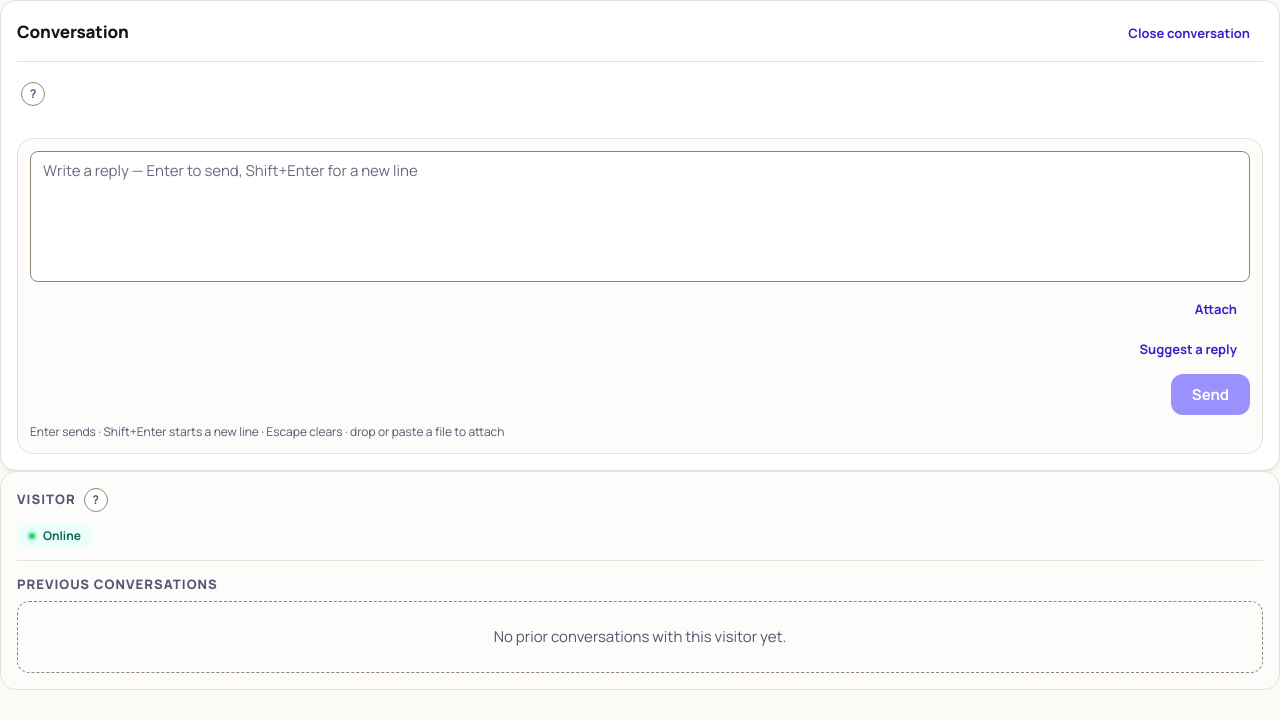
Test: closing the conversation › keeps the composer when the close was refused
The width and height of the screenshot is (1280, 720).
Click the button "Close conversation" at {"x": 1189, "y": 33}, box [1115,17,1263,49]
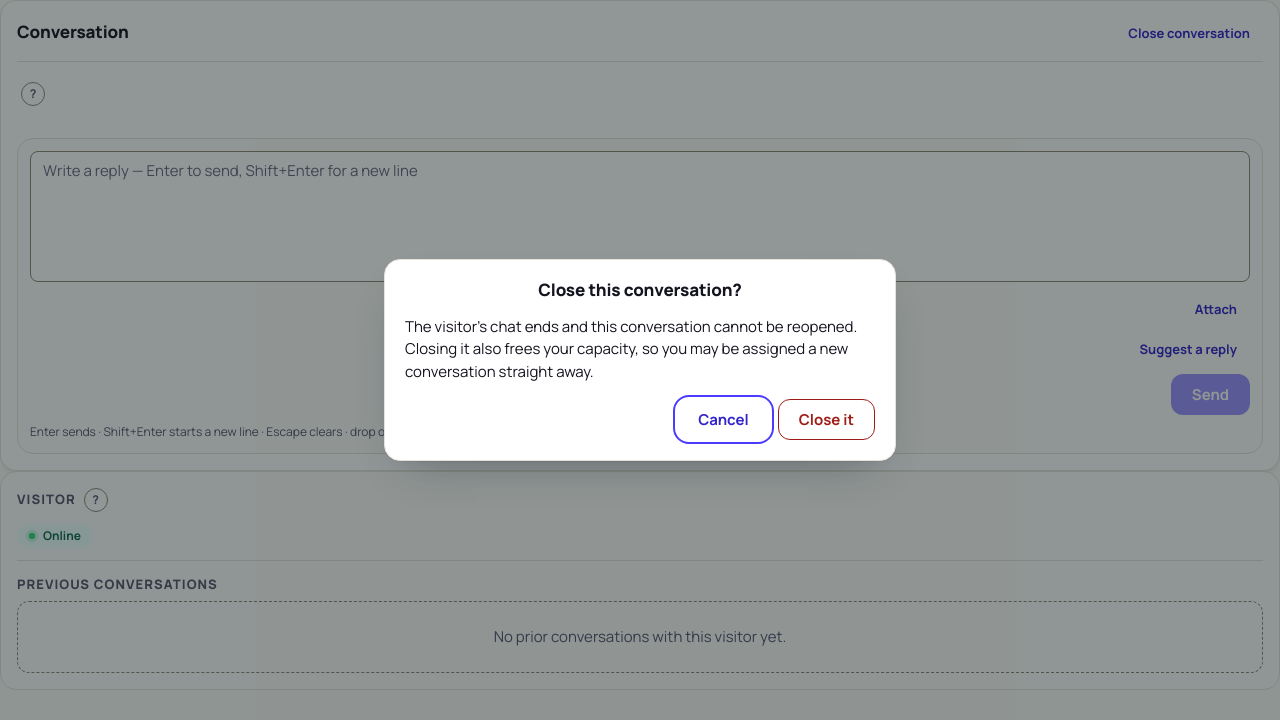
Click the button "Close it" at {"x": 826, "y": 420}, box [778,399,875,440]
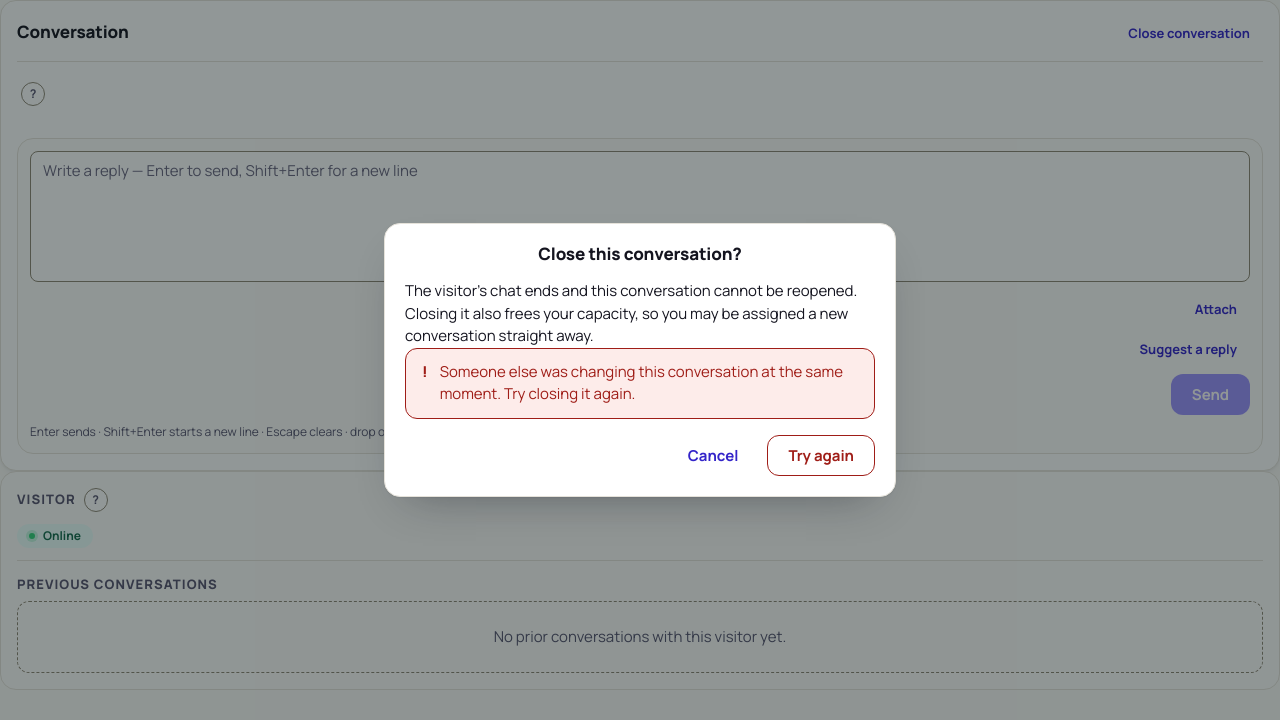
Expected: the dropdown with placeholder "Write a reply — Enter to send, Shift+Enter for a new line" is shown, [30,151,1250,282]
Now the text "Try closing it again" is shown, box [440,361,843,404]
